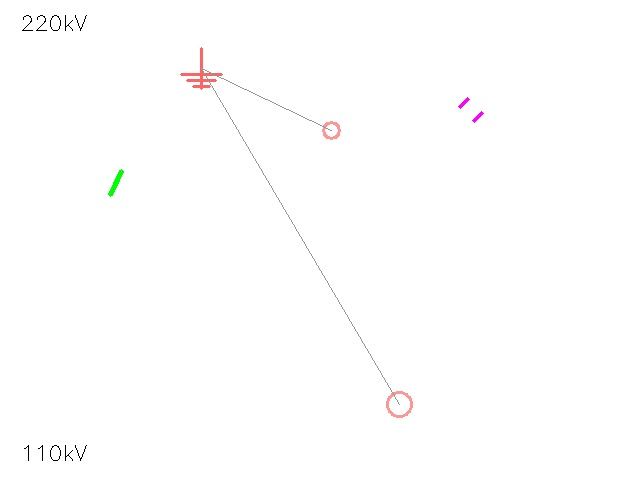busbar: (100, 167, 132, 199)
capacitor: (454, 93, 488, 127)
disconnect_switch: (374, 379, 424, 429)
ground: (181, 48, 221, 88)
load_break_switch: (315, 114, 347, 146)
